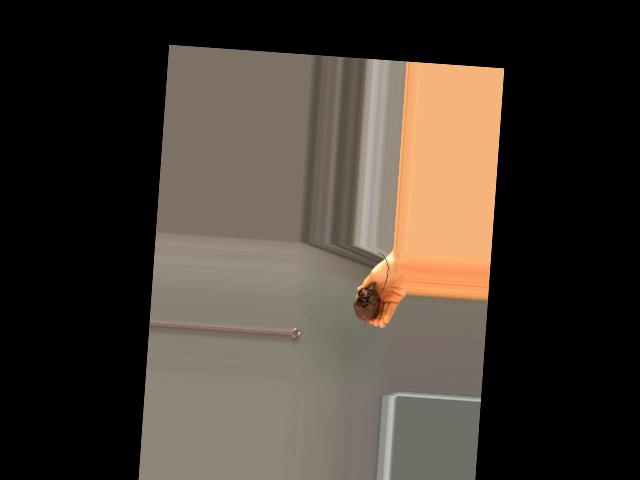beet: (352, 251, 390, 330)
